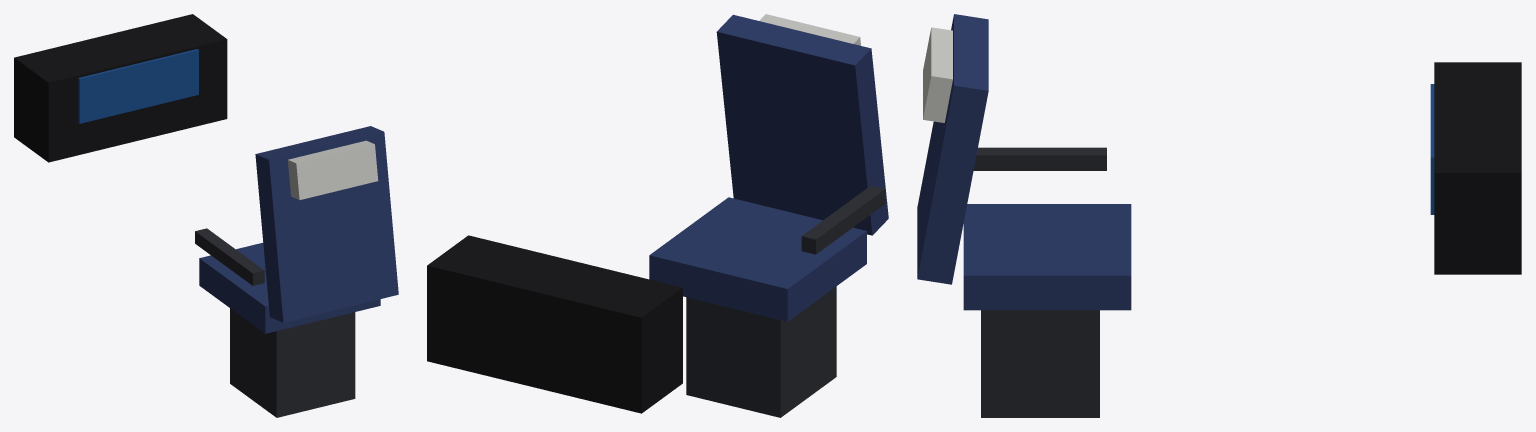
Rendered from lat_fighter_cabin.dae.
3 renders of one model, left to right at view 1: azimuth 30°, elevation 25°; view 2: azimuth 150°, elevation 25°; view 3: azimuth 270°, elevation 25°, orthographic. The views are drawn at different scales.
Parts seen in each view (by area): view 1: lat_fighter_cabin64; view 2: lat_fighter_cabin64; view 3: lat_fighter_cabin64.
Part boxes in pixels (x1,y1,x2,y2): lat_fighter_cabin64: (14,14,398,417); lat_fighter_cabin64: (427,14,888,417); lat_fighter_cabin64: (917,14,1521,417).
Size of the model in its own units: 0.75 by 1.73 by 1.08.
